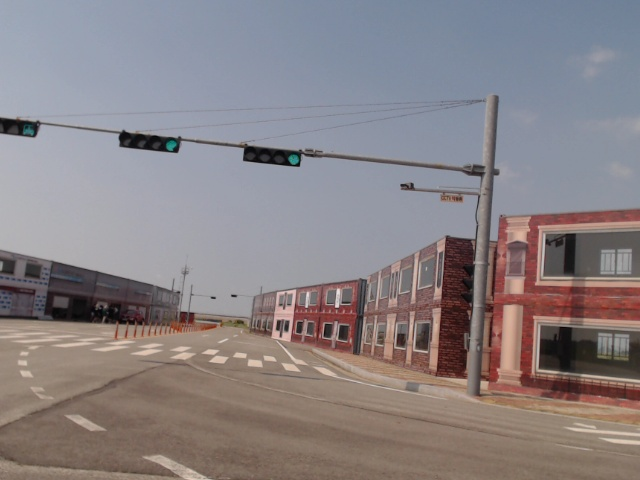straight_green_4: (120, 130, 177, 155), (243, 146, 300, 166)
